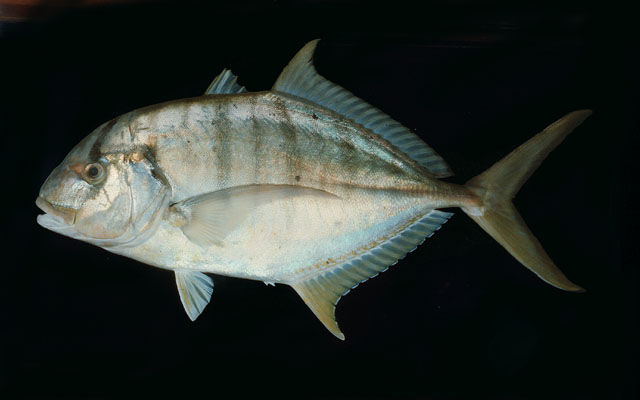fish: (35, 37, 598, 340)
